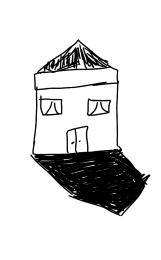door: (64, 124, 92, 153)
open_window: (84, 93, 113, 118), (38, 94, 69, 115)
roof: (23, 36, 123, 91)
shadow: (28, 148, 153, 216)
wall: (29, 81, 122, 156)
